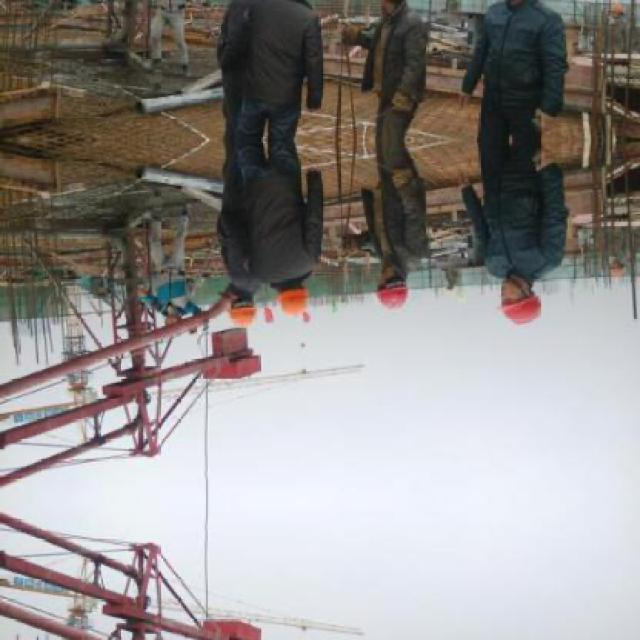con casco: (479, 275, 560, 335), (255, 259, 324, 324), (372, 252, 425, 310), (214, 286, 265, 332)
